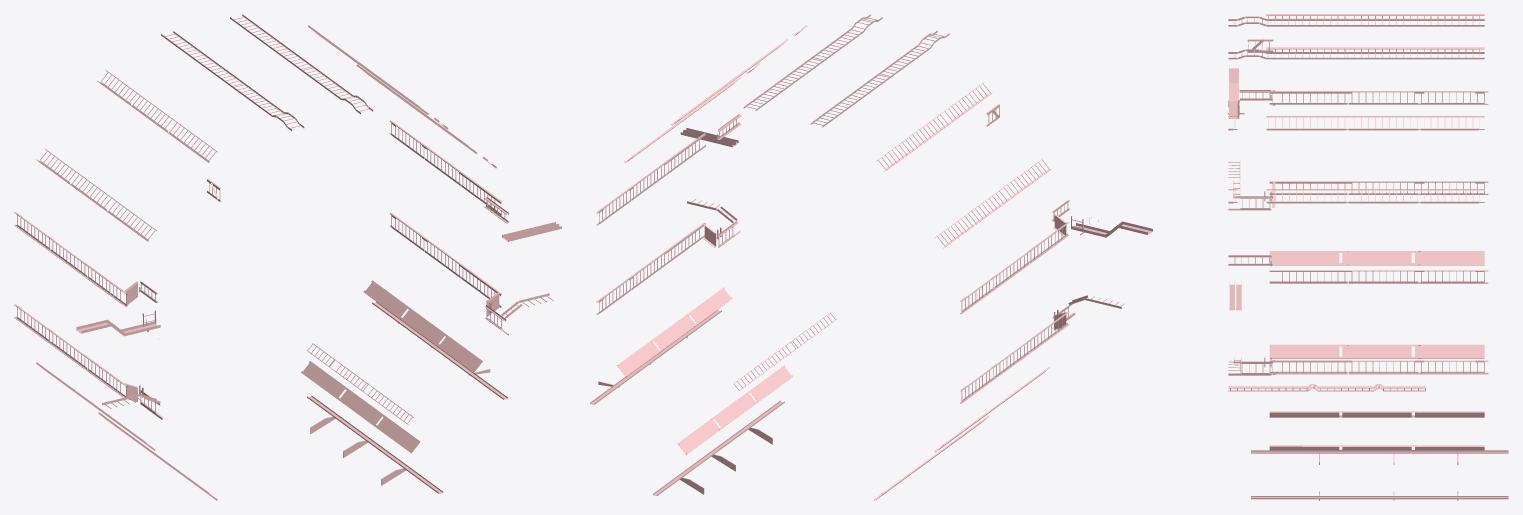
File: Serv-Muon-Cable Trays Inside Barrel-cut1.glb
3 renders of one model, left to right at view 1: azimuth 30°, elevation 25°; view 2: azimuth 150°, elevation 25°; view 3: azimuth 270°, elevation 25°, orthographic. The views are drawn at different scales.
Parts seen in each view (by area): view 1: Cabble Trays Inside Barrel cut1; view 2: Cabble Trays Inside Barrel cut1; view 3: Cabble Trays Inside Barrel cut1.
Part boxes in pixels (x1,y1,x2,y2): Cabble Trays Inside Barrel cut1: (14,14,561,500); Cabble Trays Inside Barrel cut1: (590,14,1152,500); Cabble Trays Inside Barrel cut1: (1228,14,1508,500).
Bounding box in the file's own units: 23.41 × 19.81 × 14.09.
